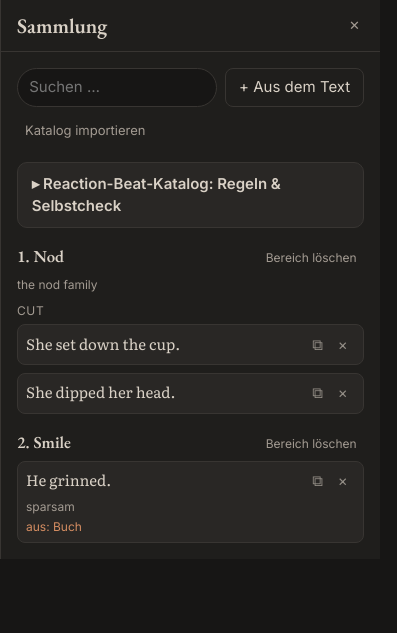
a category with a single entry asks in the singular
Click the button with aria-label "Bereich „2. Smile“ löschen" at (311, 444), box [258,431,364,457]
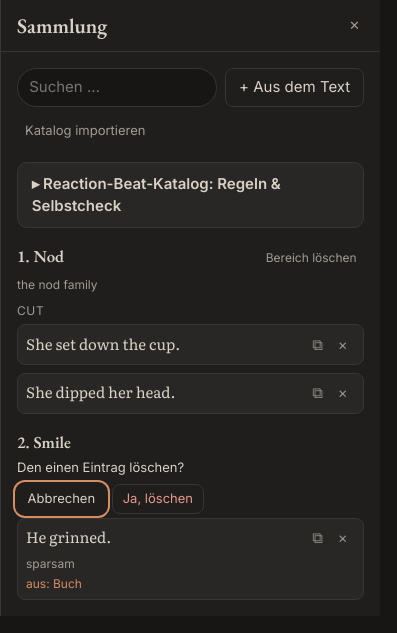
Check: the text "Den einen Eintrag löschen?" is shown, box [17,458,184,478]
